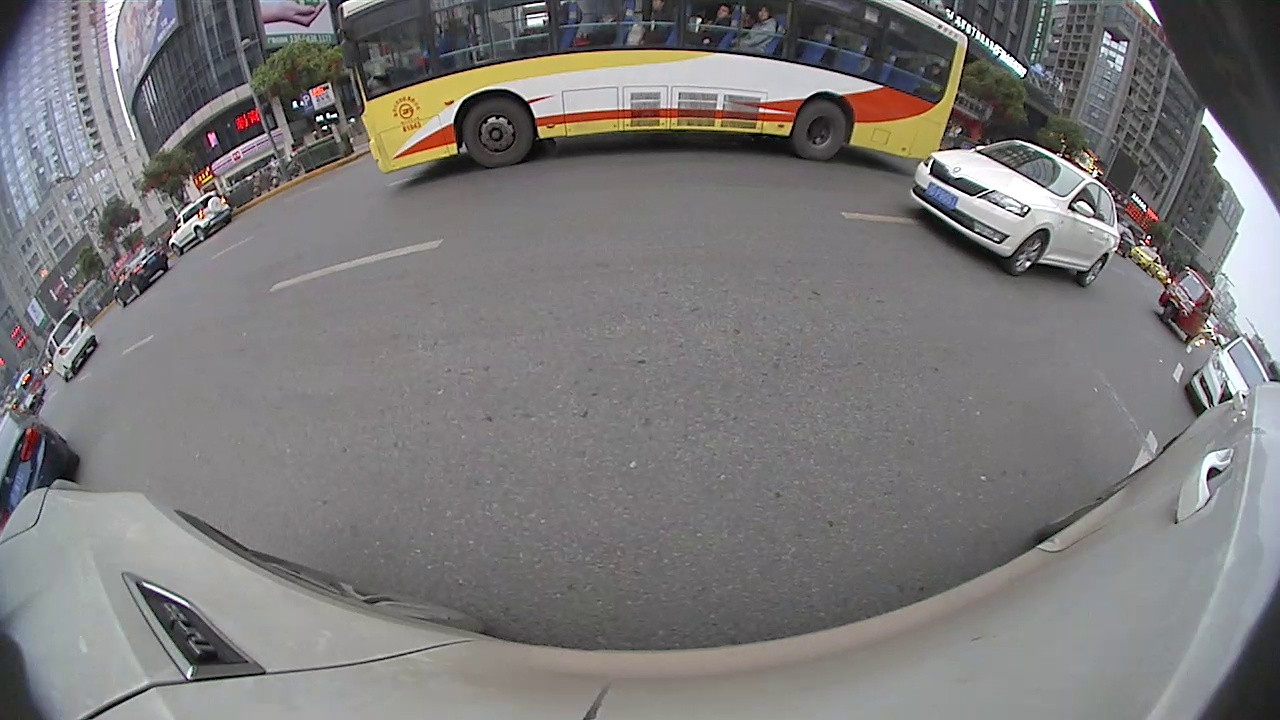bus: (337, 0, 960, 184)
car: (914, 137, 1120, 289), (0, 408, 79, 528), (1184, 333, 1274, 427), (163, 191, 236, 261), (43, 307, 102, 383), (114, 247, 172, 310)
front: (462, 98, 538, 169), (1005, 230, 1047, 278)
rear: (791, 99, 850, 162), (1076, 255, 1106, 289), (192, 226, 208, 245)
rider: (1159, 266, 1220, 347)
